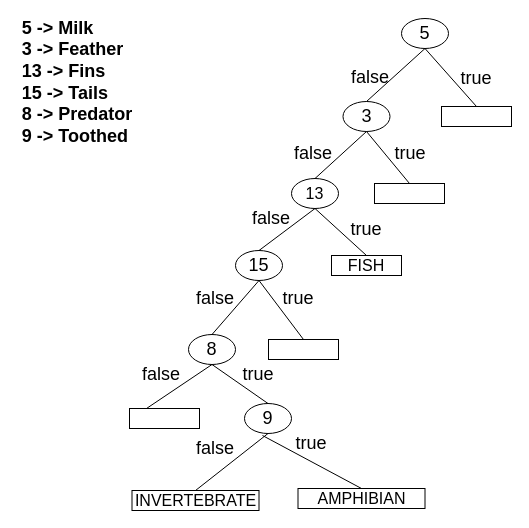
Some shapes in this 529 by 528 pixel diagram are drawn without their labels. The shapes that lost their labels are listed below. From the top down, each one's box as (x1, y1, x2, y2) in pixels, then its label:
(440, 106, 512, 126): MAMAL
(374, 182, 444, 204): BIRD
(268, 338, 338, 360): REPTILE
(128, 408, 200, 428): INSECT
